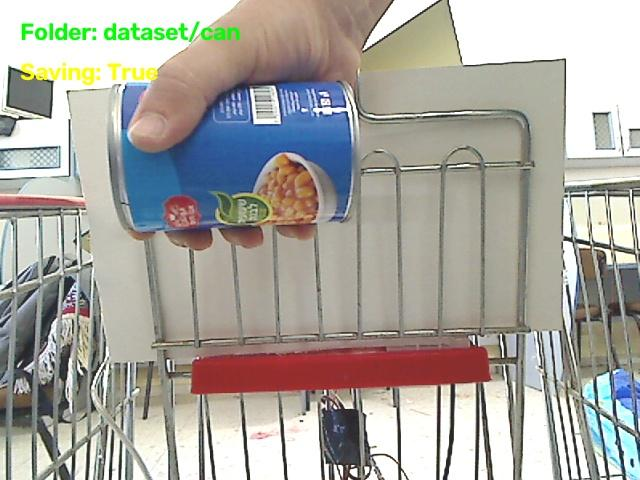can: (108, 82, 358, 231)
